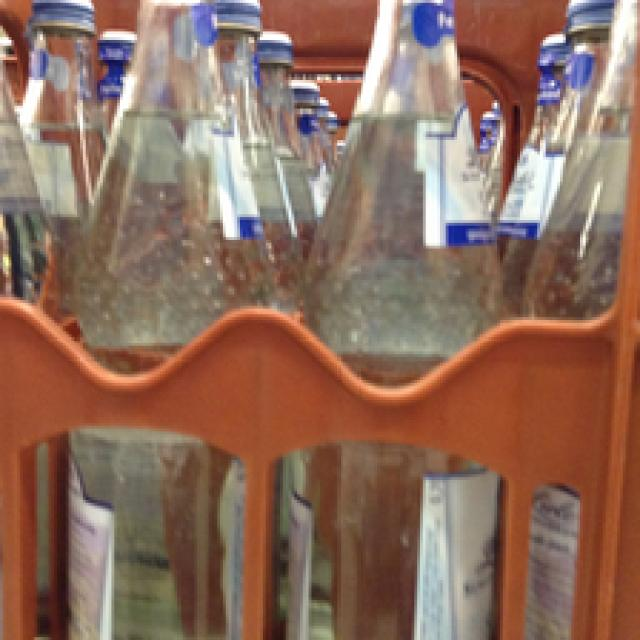groceries: (289, 0, 514, 637), (72, 3, 277, 637)
